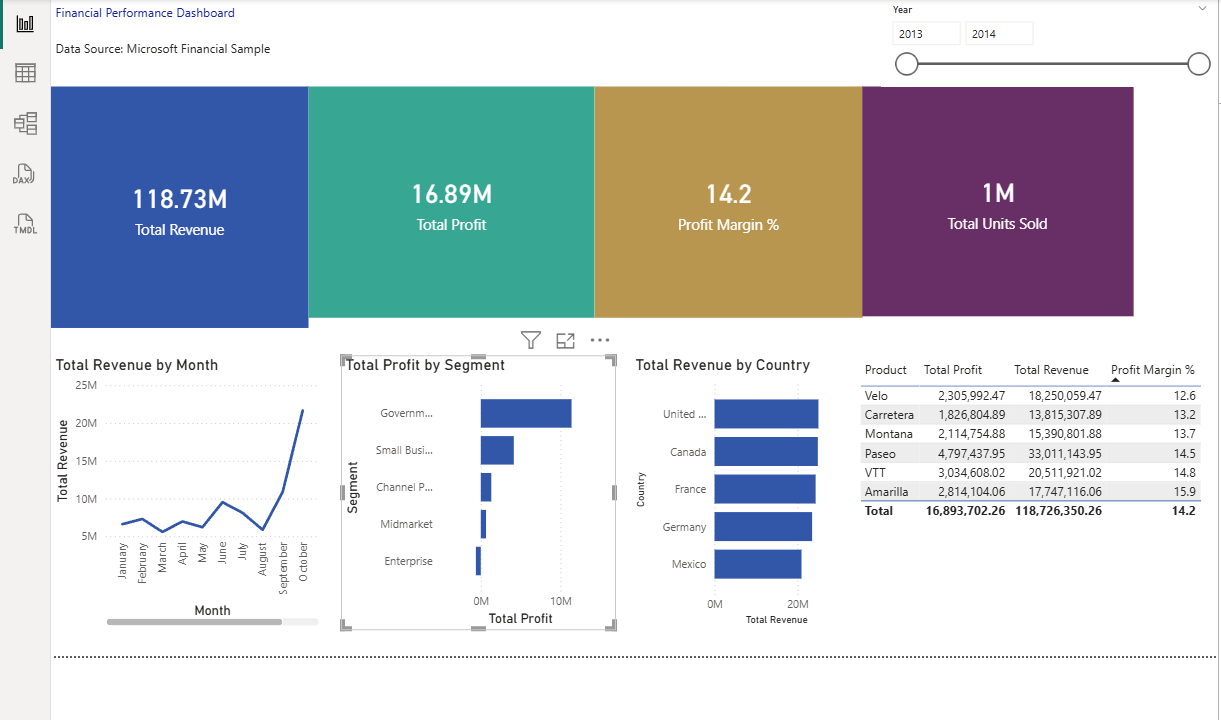

What the dashboard file says about the page in this screenshot:
{"tool":"powerbi","page":{"name":"Page 1","canvas":[1280,720],"ordinal":0},"visuals":[{"type":"card","fields":{"Values":["financials.Total Revenue"]},"box":[0,96,282.4,264.6],"z":0},{"type":"card","fields":{"Values":["financials.Total Profit"]},"box":[282.4,96,313.9,253.6],"z":1000},{"type":"card","fields":{"Values":["financials.Profit Margin %"]},"box":[596.3,96,293.3,253.6],"z":2000},{"type":"card","fields":{"Values":["financials.Total Units Sold"]},"box":[889.6,96,297.5,252.2],"z":3000},{"type":"lineChart","fields":{"Category":["financials.Date.Variation.Date Hierarchy.Month"],"Y":["financials.Total Revenue"]},"box":[0,390.7,298.8,301.6],"z":4000},{"type":"clusteredBarChart","fields":{"Category":["financials.Segment"],"Y":["financials.Total Profit"]},"box":[318,390.7,301.6,301.6],"z":5000},{"type":"clusteredBarChart","fields":{"Category":["financials.Country"],"Y":["financials.Total Revenue"]},"box":[636,390.7,245.4,301.6],"z":6000},{"type":"tableEx","fields":{"Values":["financials.Product","financials.Total Profit","financials.Total Revenue","financials.Profit Margin %"]},"box":[881.4,390.7,386.6,228.9],"z":7000},{"type":"actionButton","box":[0,0,100,40],"z":8000},{"type":"slicer","fields":{"Values":["financials.Year"]},"box":[910.2,0,370.1,96],"z":9000},{"type":"textbox","box":[0,0,253.6,39.8],"z":10000},{"type":"textbox","box":[0,39.8,264.6,35.6],"z":11000}]}

Visuals, with their boxes on the page's 1280x720 design canvas (x1, y1, x2, y2). These are canvas units, not pixel positions in the 1221x720 screenshot, which may show the page scaled, cropped or inside an application window:
card - financials.Total Revenue: bbox=(0, 96, 282, 361)
card - financials.Total Profit: bbox=(282, 96, 596, 350)
card - financials.Profit Margin %: bbox=(596, 96, 890, 350)
card - financials.Total Units Sold: bbox=(890, 96, 1187, 348)
lineChart - financials.Date.Variation.Date Hierarchy.Month x financials.Total Revenue: bbox=(0, 391, 299, 692)
clusteredBarChart - financials.Segment x financials.Total Profit: bbox=(318, 391, 620, 692)
clusteredBarChart - financials.Country x financials.Total Revenue: bbox=(636, 391, 881, 692)
tableEx - financials.Product x financials.Total Profit: bbox=(881, 391, 1268, 620)
actionButton: bbox=(0, 0, 100, 40)
slicer - financials.Year: bbox=(910, 0, 1280, 96)
textbox: bbox=(0, 0, 254, 40)
textbox: bbox=(0, 40, 265, 75)
